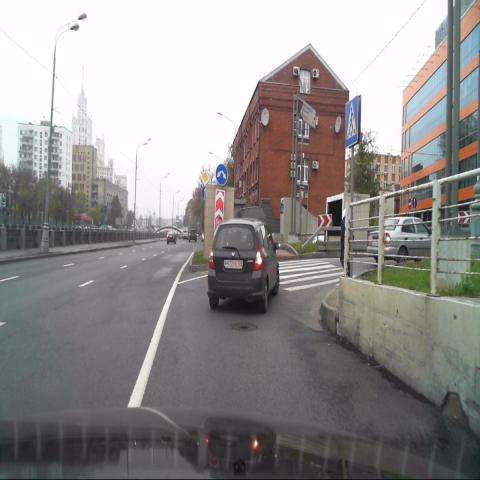4_2_3: (216, 163, 227, 186)
